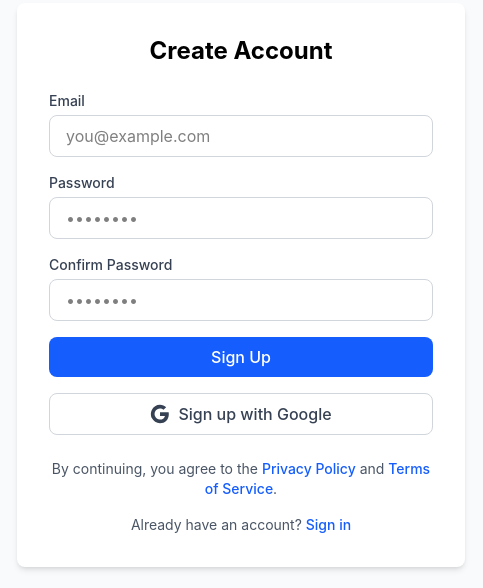
it: Signup › shows loading state while submitting
The width and height of the screenshot is (483, 588).
In the field labelled "Email": (241, 136) [49, 115, 433, 157], type "a@b.com"
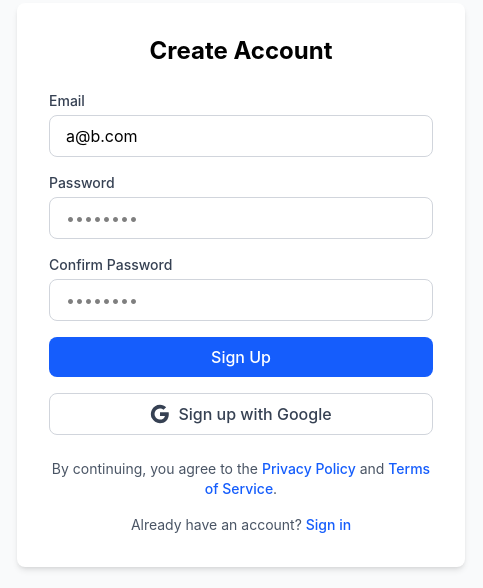
In the password field labelled "Password": (241, 218) [49, 197, 433, 239], type "password"
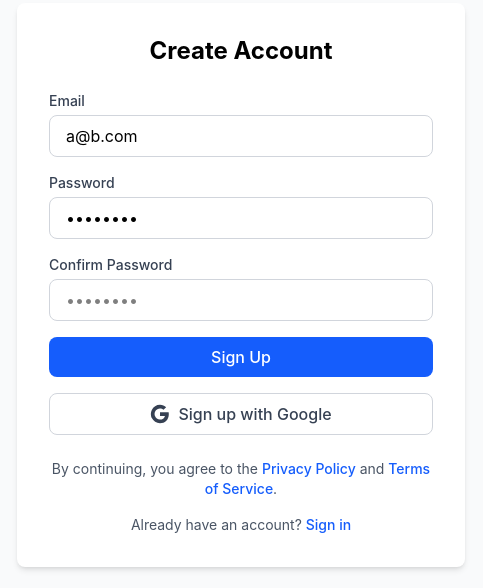
In the password field labelled "Confirm Password": (241, 300) [49, 279, 433, 321], type "password"
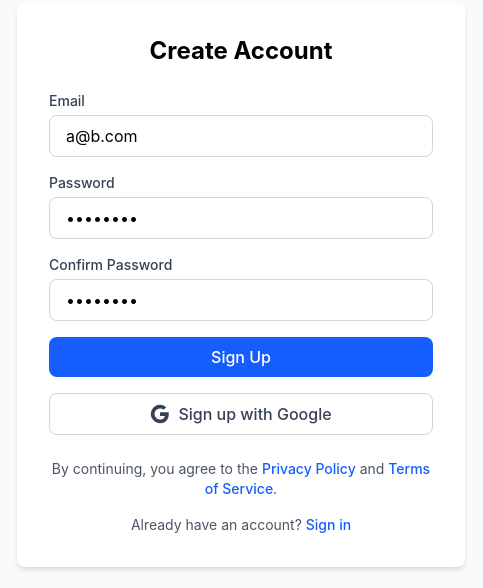
Click the button "Sign Up": (241, 357) [49, 337, 433, 377]
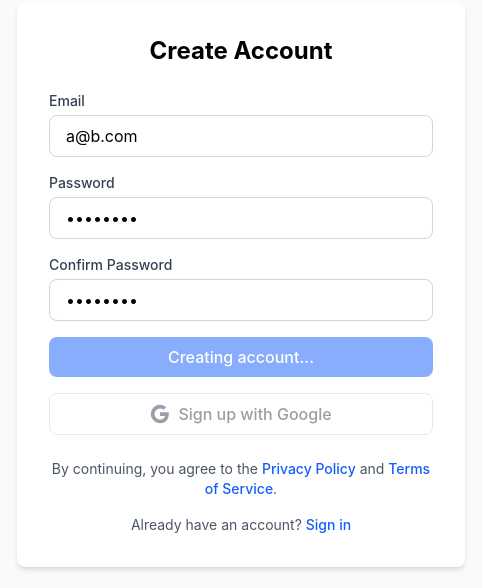
Now the button "Creating account..." is shown, box [49, 337, 433, 377]
